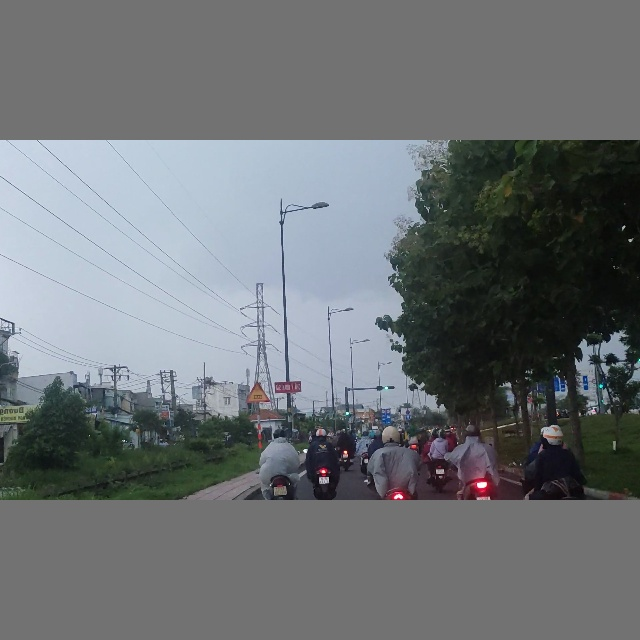W.210: (246, 382, 269, 402)
